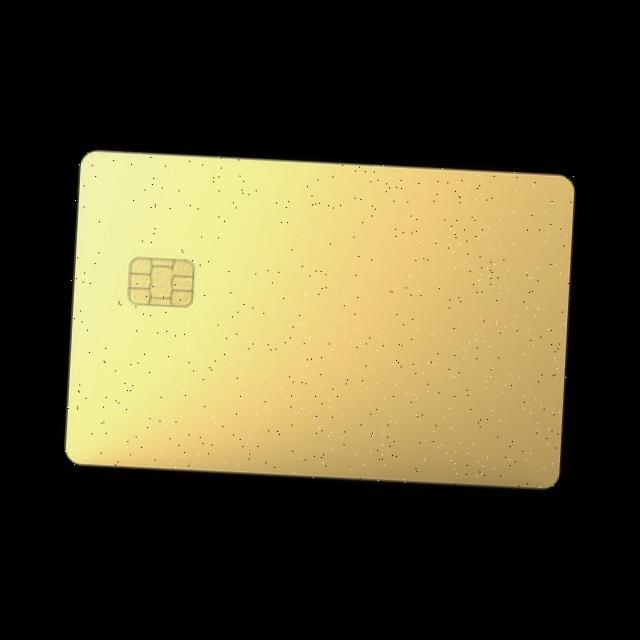payment_card: (63, 148, 575, 490)
